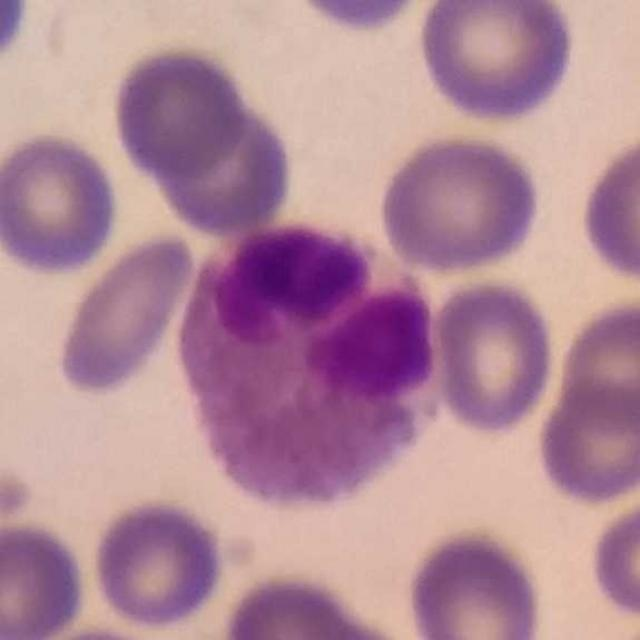Eosinophil: (182, 221, 448, 511)
RBC: (54, 228, 200, 400), (375, 130, 544, 276), (427, 274, 559, 438), (148, 92, 297, 237), (414, 0, 581, 127), (109, 41, 251, 185), (88, 494, 230, 632), (0, 128, 122, 277), (403, 524, 549, 640), (532, 366, 640, 510), (216, 569, 427, 640), (548, 292, 640, 444), (0, 516, 91, 639), (575, 125, 640, 289), (586, 490, 640, 624), (285, 0, 434, 36), (0, 1, 35, 70)
